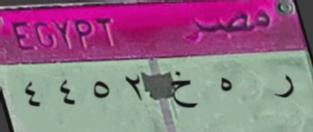2: (119, 72, 148, 106)
4: (21, 76, 48, 112), (55, 75, 79, 110)
5: (87, 72, 114, 105)
haa: (212, 69, 240, 100)
khaa: (168, 68, 201, 117)
raa: (266, 69, 305, 109)
